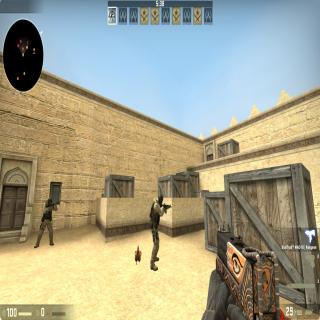CT-Body: (146, 193, 165, 271), (38, 197, 54, 248)
CT-Head: (157, 192, 164, 206), (47, 197, 52, 206)
